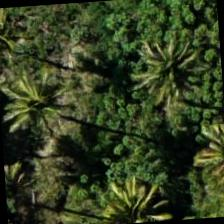Kelapa_Sawit: (119, 21, 215, 117), (49, 127, 144, 223), (0, 25, 91, 122), (87, 161, 182, 223)
